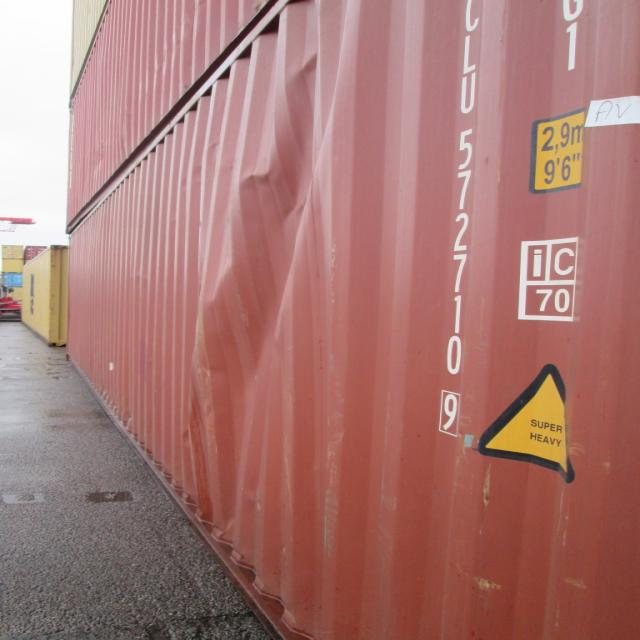dent: (190, 42, 359, 517)
